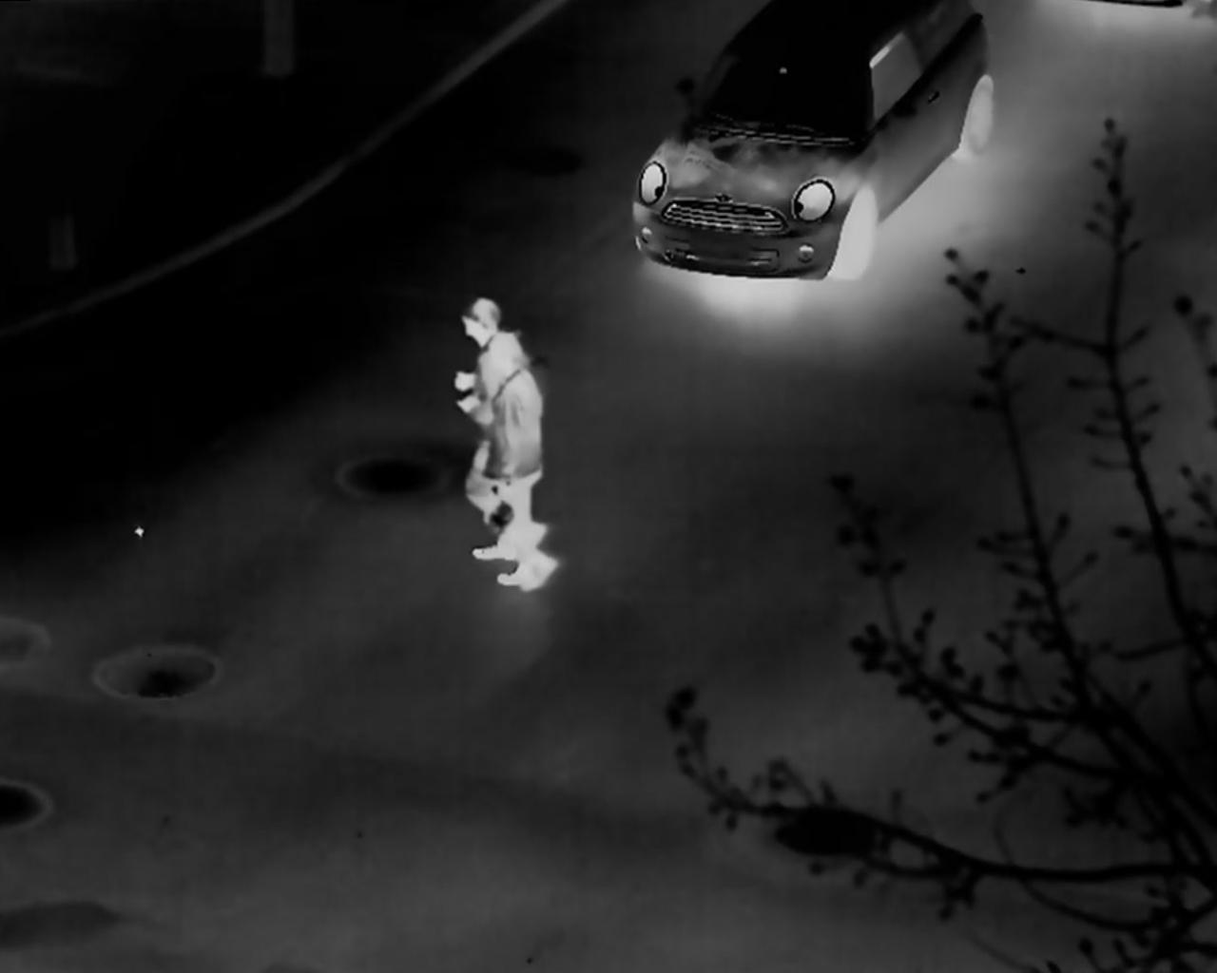person: (479, 337, 561, 594), (454, 285, 521, 555)
